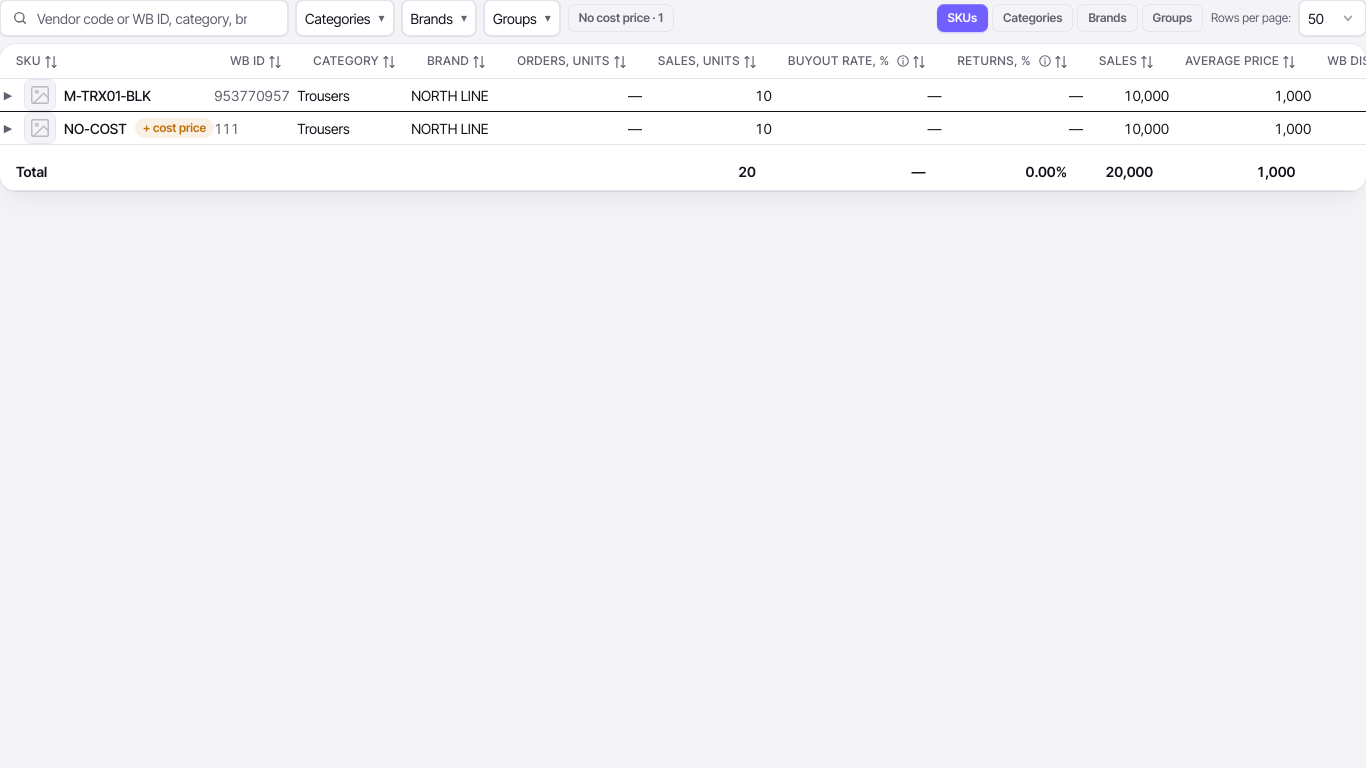
Test: articles with no cost price in the P&L › keeps the dialog open and says why when the save is refused
Click the button with test id "enter-cost".
click(174, 128)  # box top-left (135, 118), bottom-right (214, 138)
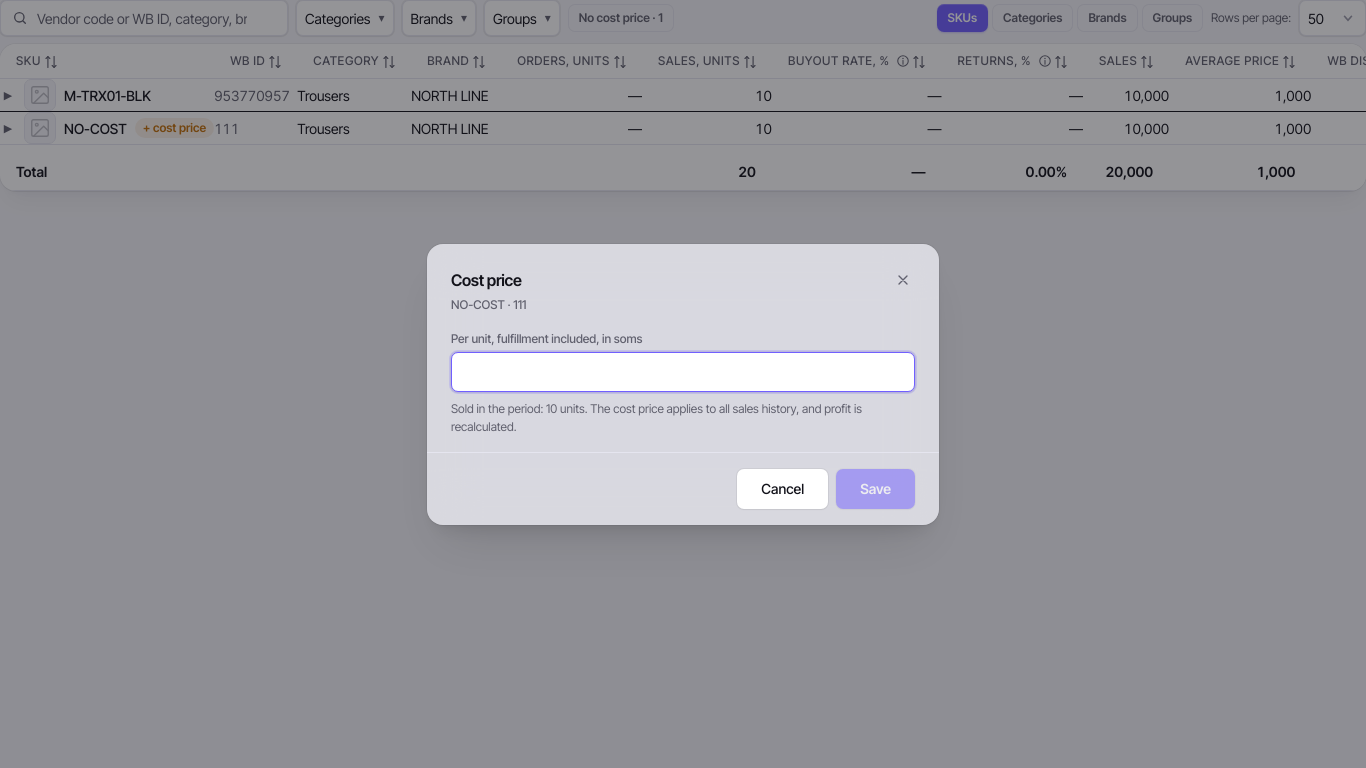
Type "700" into the field labelled "Per unit, fulfillment included, in soms".
click(683, 372); type("700")  # box top-left (451, 352), bottom-right (915, 392)
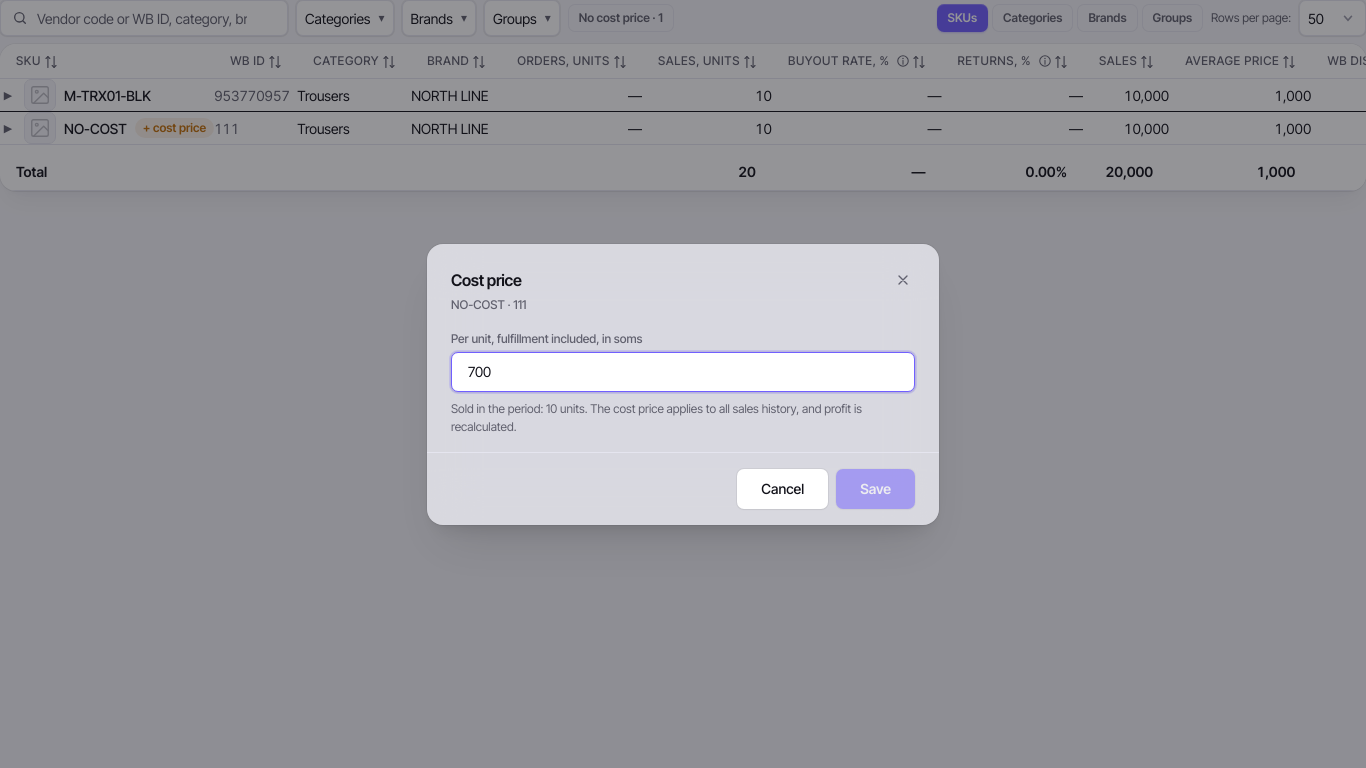
Submit the form, box top-left (451, 330), bottom-right (915, 436)
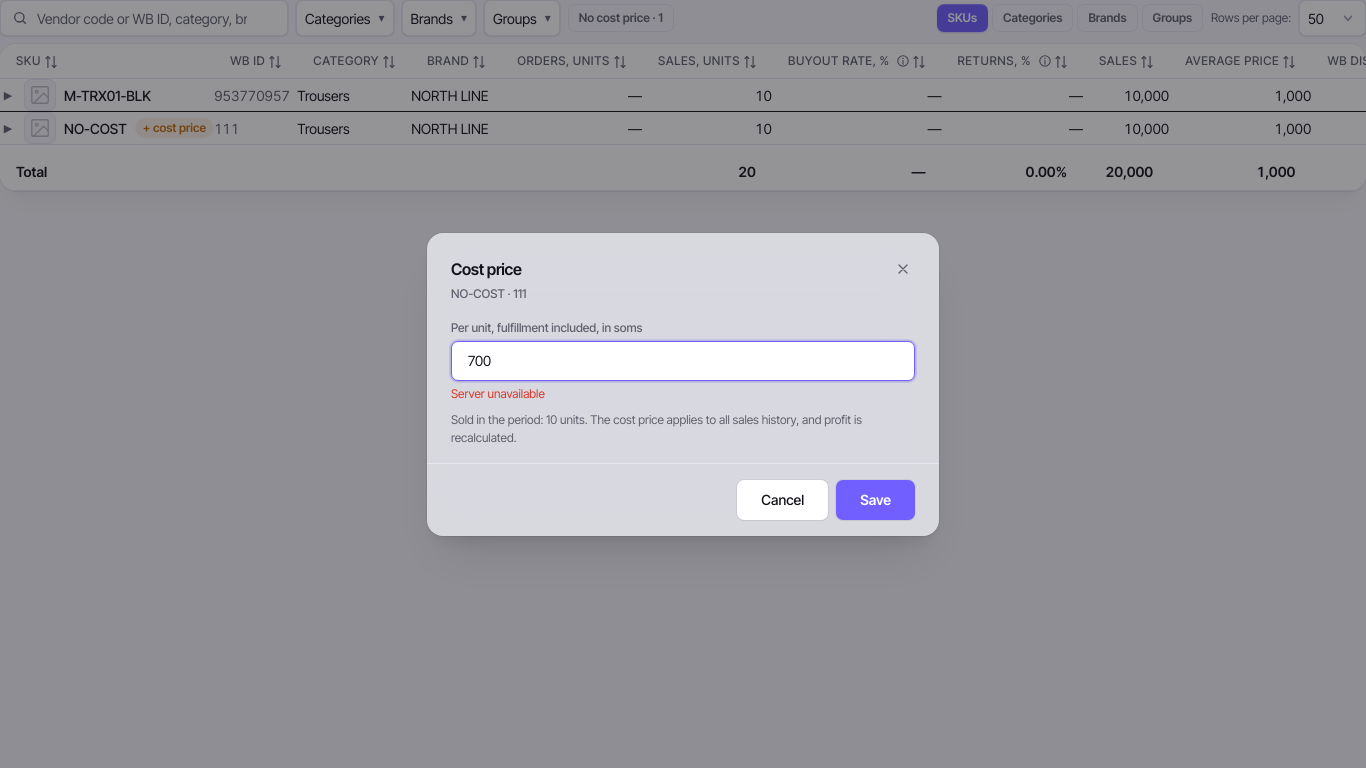
Expected: the dialog with test id "cost-dialog" shows "Server unavailable", top-left (451, 386), bottom-right (545, 400)
